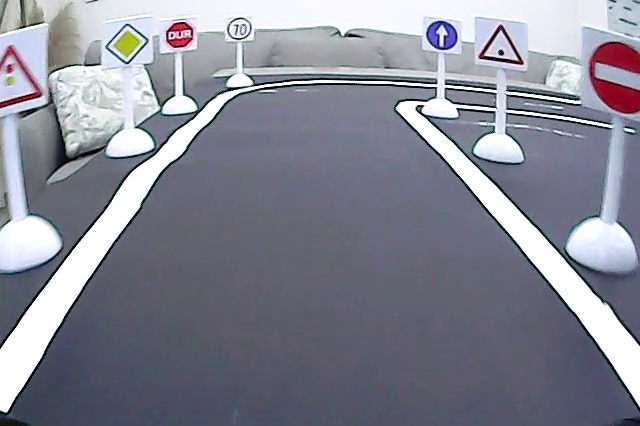do not enter: (585, 35, 640, 119)
green light: (477, 19, 527, 68)
red light: (1, 41, 46, 114)
speed limit 70: (226, 16, 253, 43)
stop sign: (163, 18, 198, 52)
